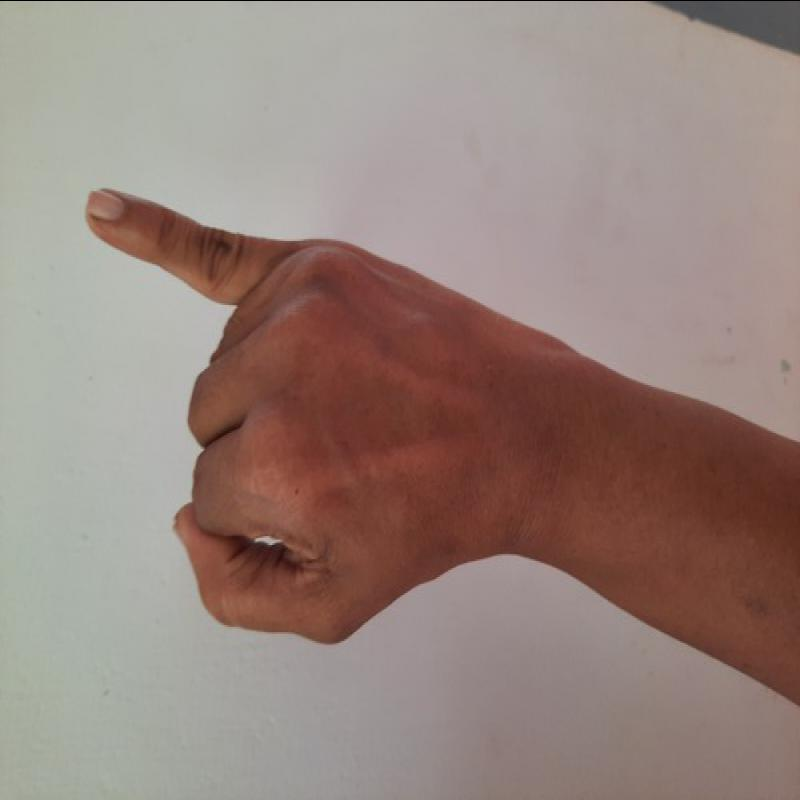Kartharee Mukham: (69, 175, 531, 656)
